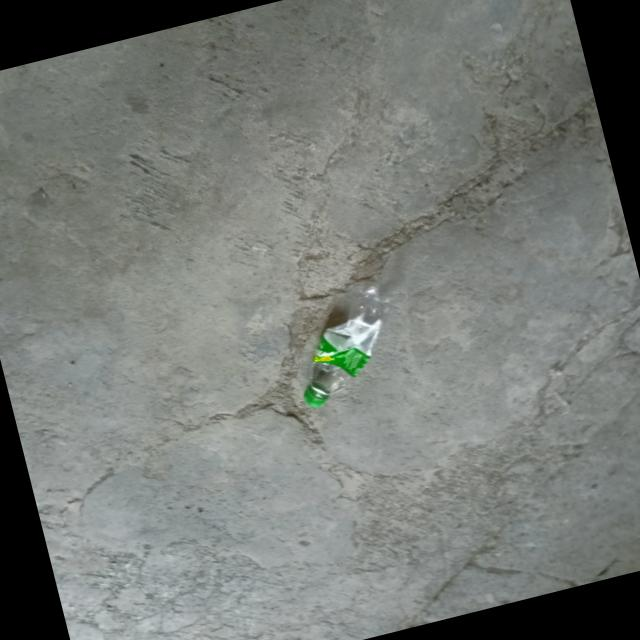Bottle: (303, 281, 387, 407)
